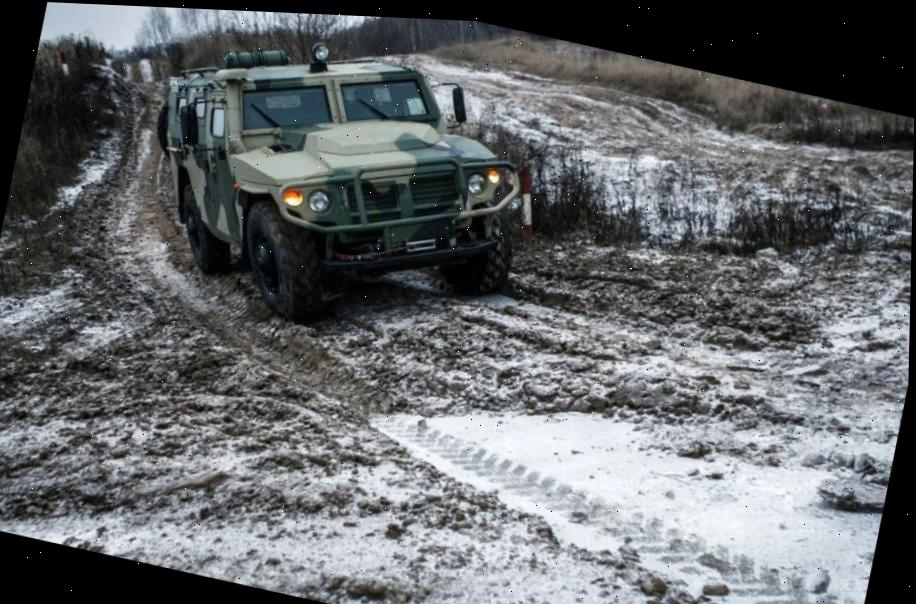armored_car: (122, 6, 546, 366)
